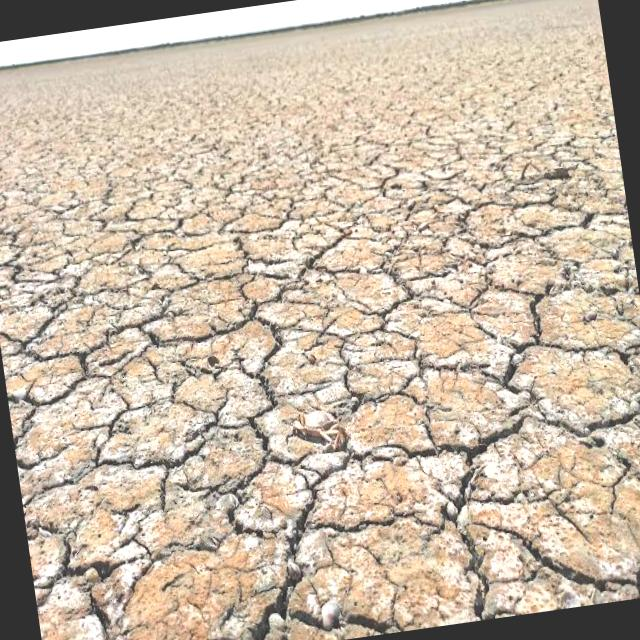suelo_seco: (235, 75, 538, 484)
